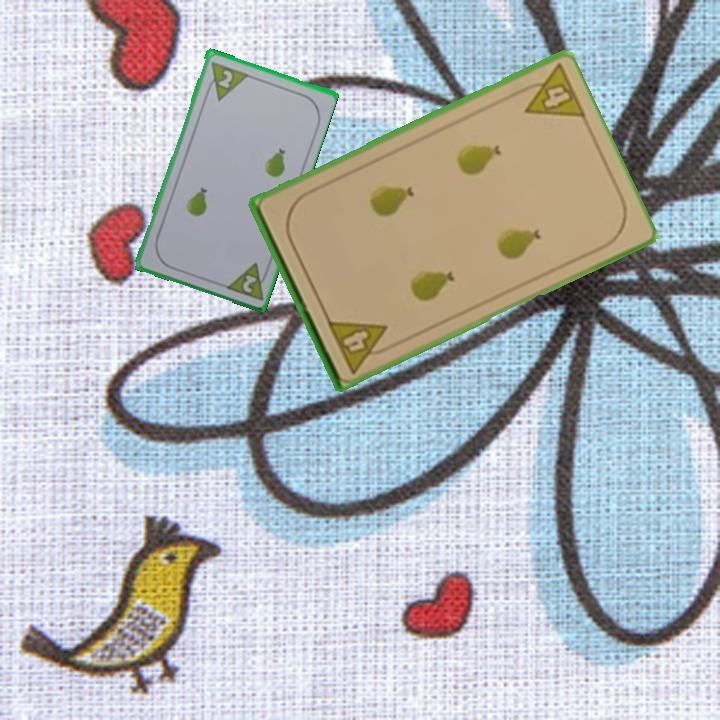2p: (221, 258, 273, 303), (215, 66, 236, 91)
4p: (510, 60, 588, 121), (324, 315, 397, 376)
